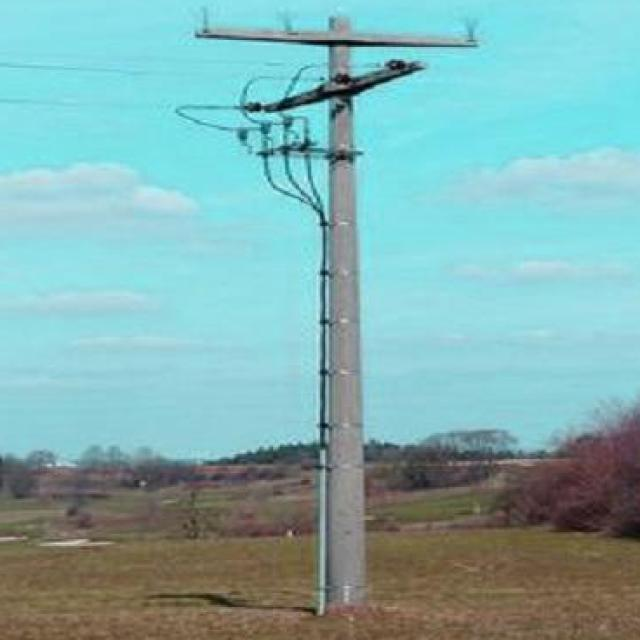non-critical vegetation: (180, 5, 486, 598)
